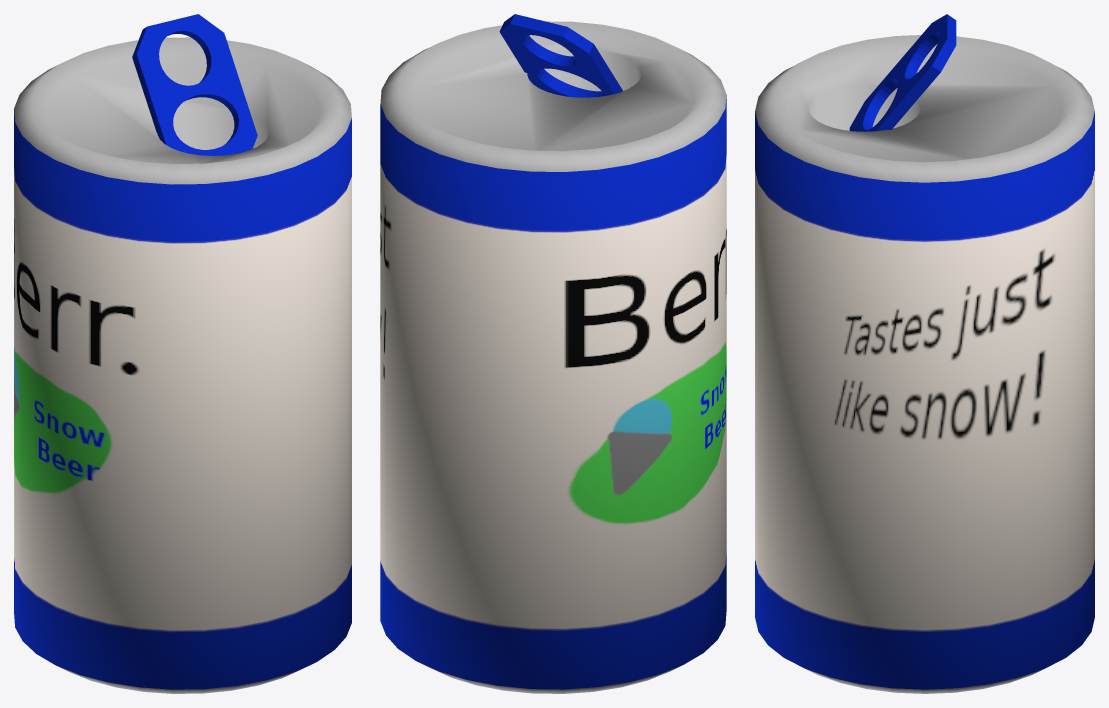
File: snowbeer.glb
3 views of the same model, side by side, from view 1: azimuth 30°, elevation 25°; view 2: azimuth 150°, elevation 25°; view 3: azimuth 270°, elevation 25° (orthographic). The views are drawn at different scales.
Visible parts, largest first — view 1: Cylinder, Plane; view 2: Cylinder, Plane; view 3: Cylinder, Plane.
Boxes of the visible parts, left/top/right/bottom form: Cylinder: left=14, top=37, right=351, bottom=693; Plane: left=132, top=14, right=257, bottom=155; Cylinder: left=380, top=21, right=726, bottom=693; Plane: left=499, top=14, right=622, bottom=97; Cylinder: left=755, top=35, right=1094, bottom=693; Plane: left=849, top=14, right=956, bottom=131.
Size of what is drawn, in the model's own units: 2 by 3.92 by 2.
Materials: 1 (1 with a texture image).
